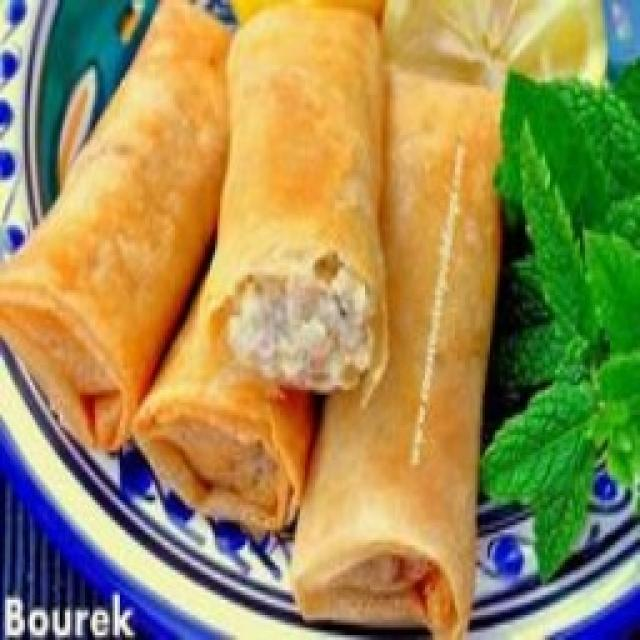Brik: (0, 0, 600, 640)
